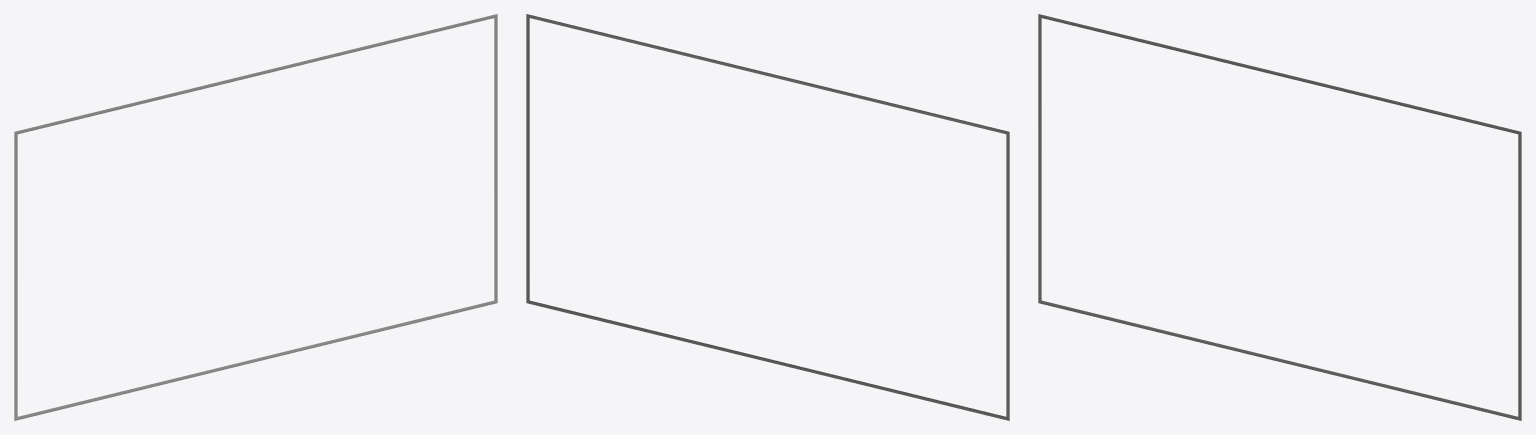
The model's file is PBR - Metallic Roughness.glb.
The picture shows the model from 3 angles, left to right: view 1: azimuth 30°, elevation 25°; view 2: azimuth 150°, elevation 25°; view 3: azimuth 330°, elevation 25°; orthographic projection.
Visible parts, largest first — view 1: Samsung_SMART_TV; view 2: Samsung_SMART_TV; view 3: Samsung_SMART_TV.
Boxes of the visible parts, <box> form: Samsung_SMART_TV: <box>14,14,497,420</box>; Samsung_SMART_TV: <box>526,14,1009,420</box>; Samsung_SMART_TV: <box>1038,14,1521,420</box>.
Size of the model in its own units: 1028 by 588 by 0.0276.
1 material, 1 textured.
